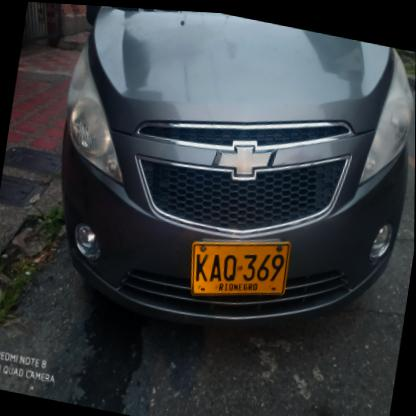placa: (176, 217, 302, 314)
